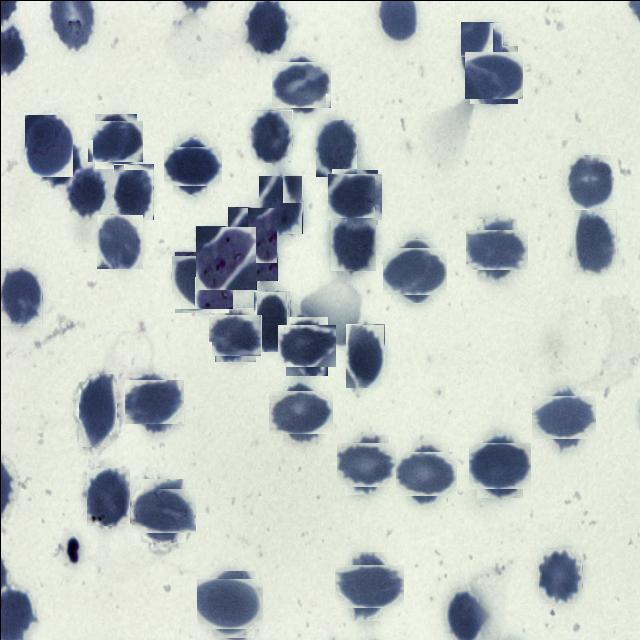red blood cell: (227, 207, 277, 280), (200, 574, 258, 632), (172, 252, 230, 310), (340, 557, 396, 614), (386, 242, 442, 298), (136, 482, 190, 538), (24, 114, 72, 176), (398, 446, 452, 501), (536, 389, 590, 444), (472, 438, 526, 492), (273, 384, 327, 438), (573, 208, 616, 274), (274, 58, 328, 110), (466, 48, 520, 100), (562, 154, 612, 210), (78, 373, 116, 446), (470, 223, 522, 276), (128, 374, 180, 426), (340, 438, 392, 490), (258, 174, 302, 233), (84, 467, 128, 525), (281, 320, 331, 370), (329, 172, 379, 222), (345, 323, 384, 387), (96, 214, 142, 268), (0, 266, 42, 325), (538, 547, 582, 603), (167, 140, 216, 190), (460, 21, 502, 79), (330, 217, 375, 270), (315, 120, 356, 178), (90, 116, 138, 165), (37, 136, 81, 188), (210, 311, 258, 358), (113, 163, 153, 219), (250, 109, 292, 162), (64, 164, 106, 217), (253, 290, 289, 351)
ring: (195, 225, 256, 289)
